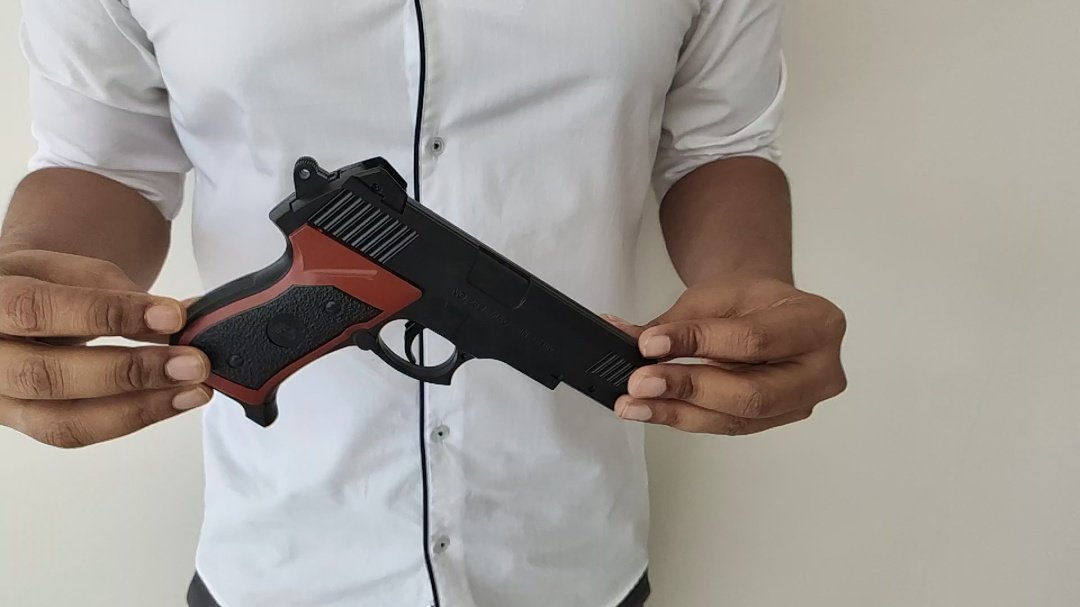gun: (184, 72, 810, 493)
